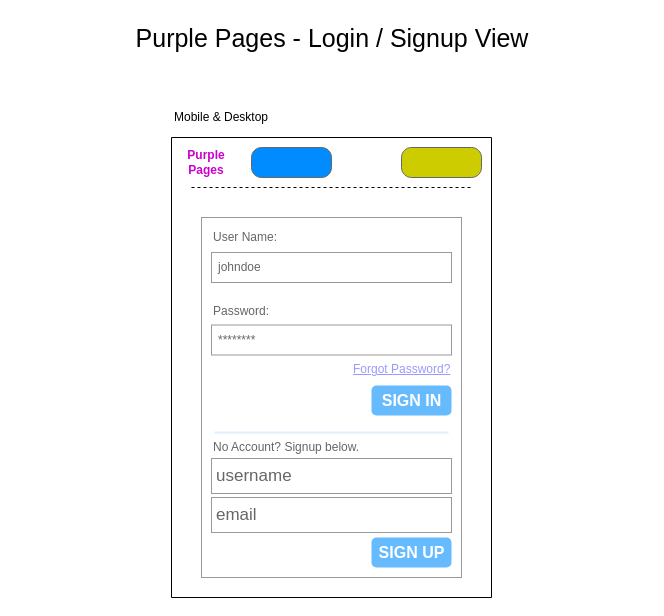
Some shapes in this 664 by 616 pixel diagram are drawn without their labels. The shapes that lost their labels are listed below. From the top down, each one's box as (x1, y1, x2, y2) in pixels, then its label:
(250, 146, 332, 178): Notice Boards
(400, 146, 482, 178): Login / Logout
